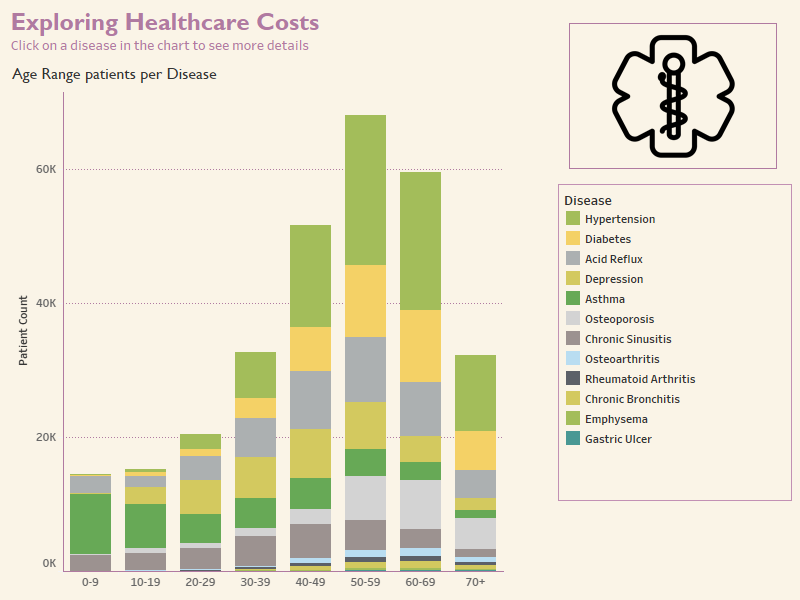

The page's visual inventory and layout, read from the dashboard file:
{"tool":"tableau","page":{"name":"1.Exploring Healthcare Costs","canvas":[800,600],"ordinal":0},"visuals":[{"type":"title","box":[8,8,546,74]},{"type":"image","param":"Image/cruz-medica.png","box":[554,8,238,176]},{"type":"worksheet","title":"Patients per Disease","mark":"Bar","rows":["Patient Count"],"cols":["Age Range (bin)"],"box":[8,82,546,510]},{"type":"legend","title":"Patients per Disease","param":"[federated.05t4d1l03nmawa19un14q08my4r2].[none:Disease:nk]","box":[554,184,238,321]},{"type":"blank","box":[554,505,238,87]}]}

Visuals, with their boxes in screenshot pixels (x1, y1, x2, y2), scaled from the page's 800x600 canvas onto the 800x600 screenshot:
title: box(8, 8, 554, 82)
image: box(554, 8, 792, 184)
"Patients per Disease" worksheet (Bar marks): box(8, 82, 554, 592)
"Patients per Disease" legend: box(554, 184, 792, 505)
blank: box(554, 505, 792, 592)
